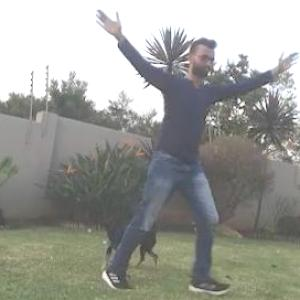takeoff: (87, 35, 271, 265)
